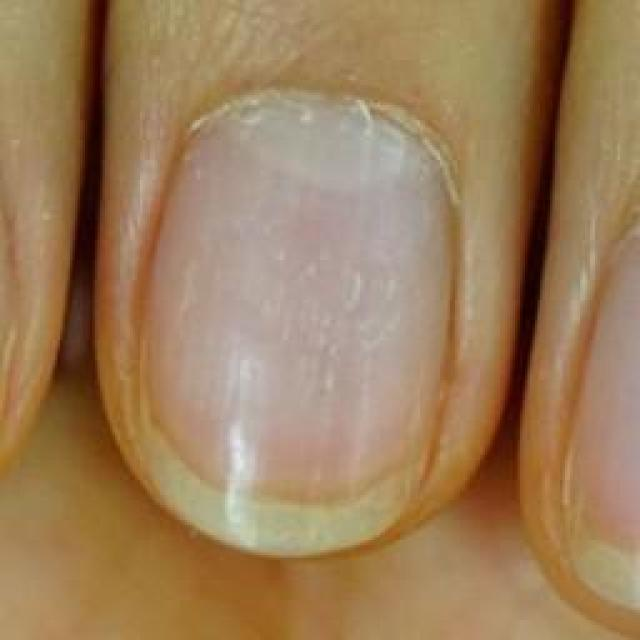Nail: (132, 99, 456, 562)
